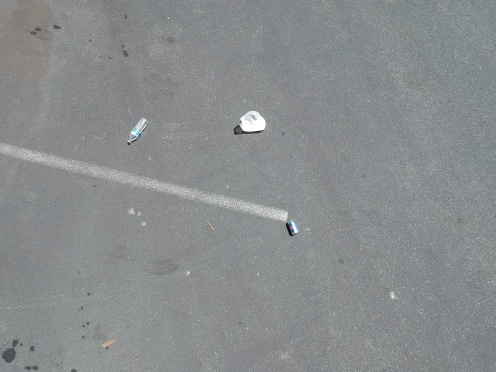bottle: (121, 114, 149, 144)
can: (284, 215, 299, 239)
plastic bag: (234, 105, 270, 134)
